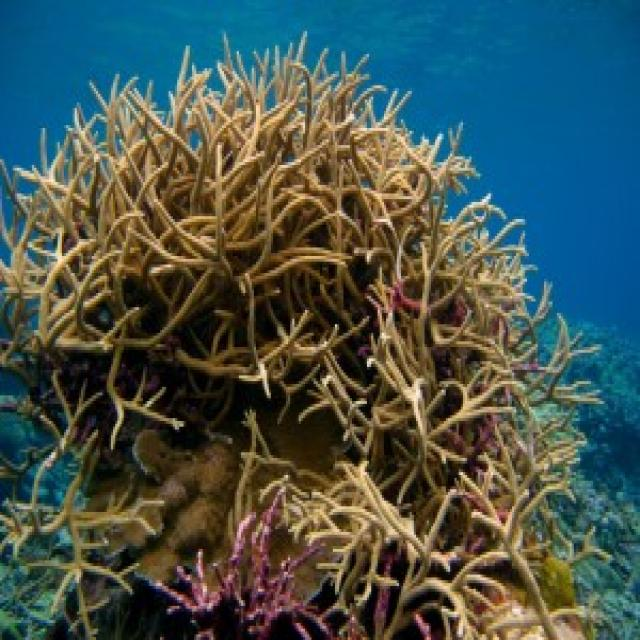Coral: (1, 29, 616, 640)
